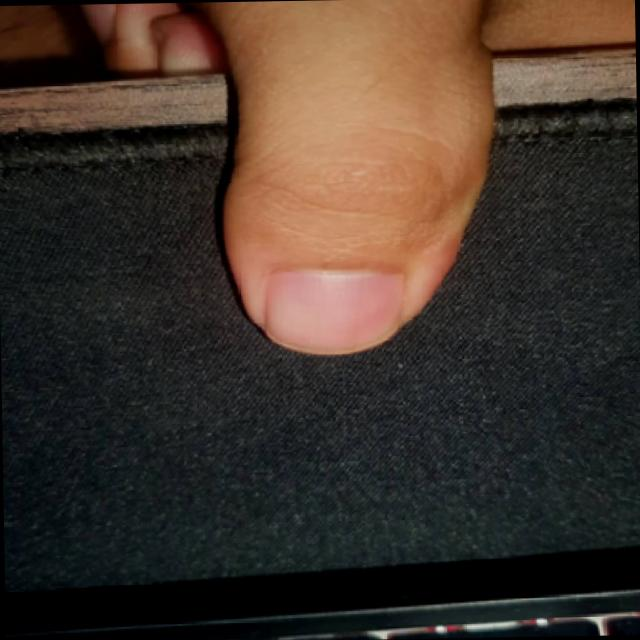Nail: (267, 270, 405, 353)
